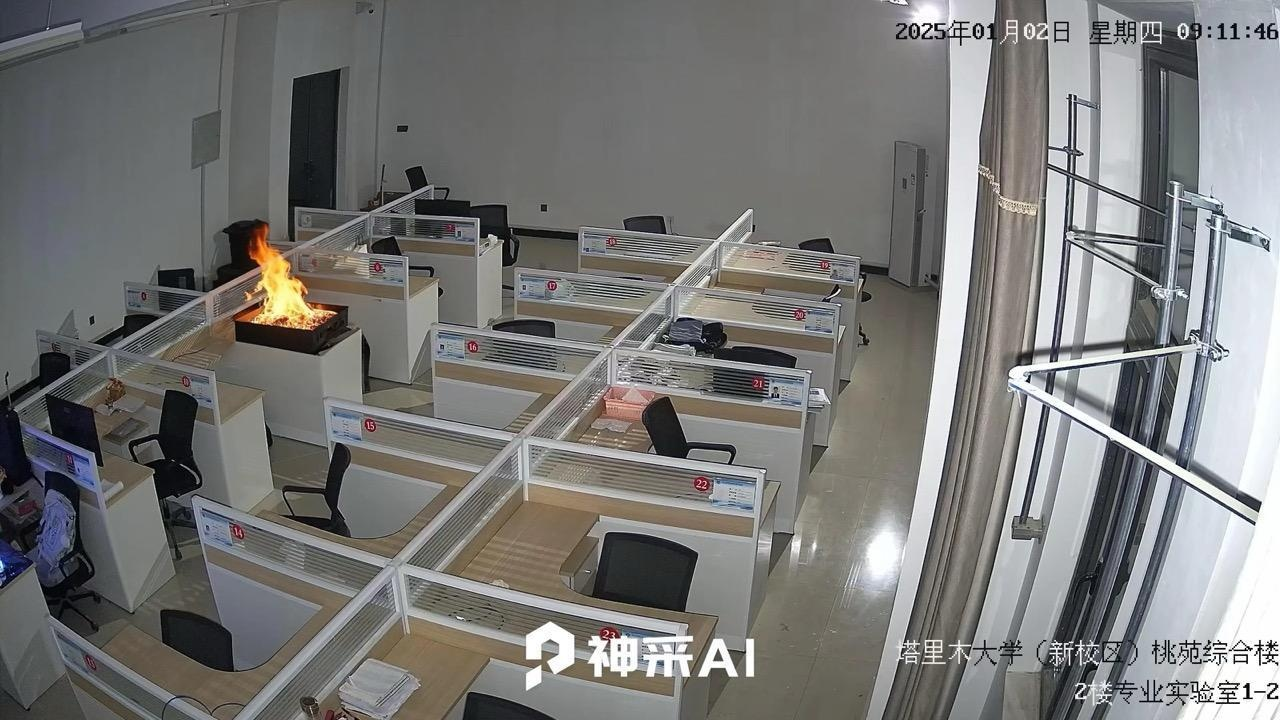fire: (228, 217, 347, 362)
